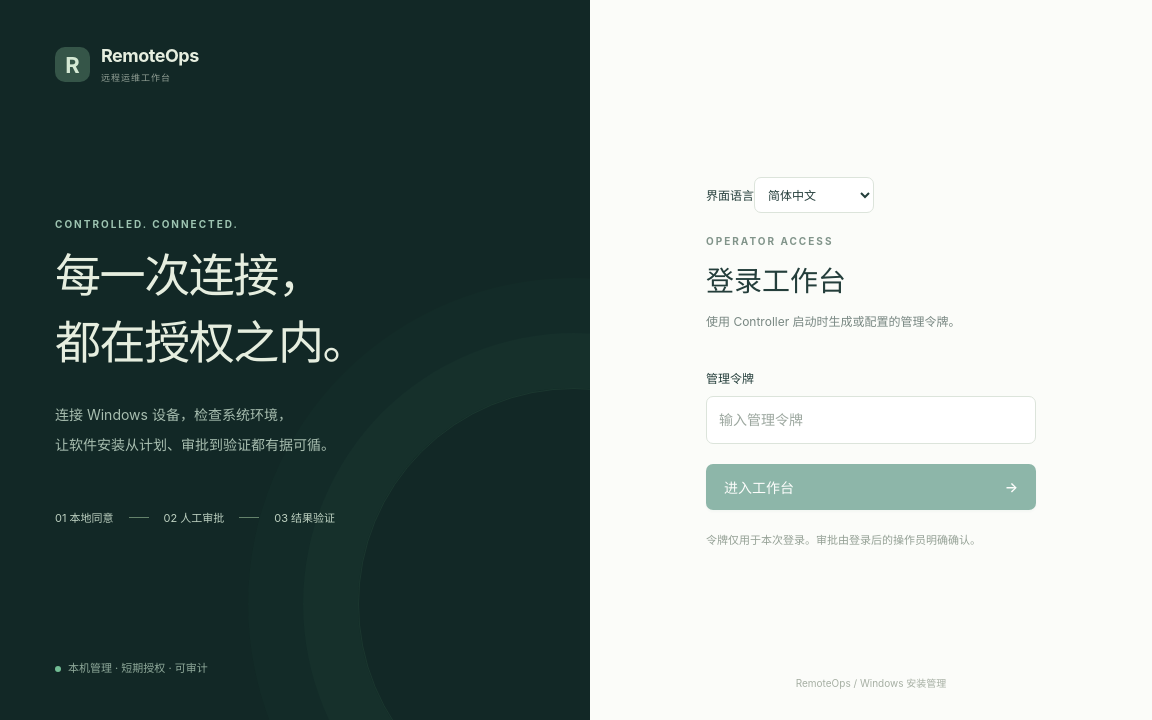
Test case: management UI › clears an unsubmitted token and shows a recoverable warning on failed preference saves
The image size is (1152, 720).
Type "private-secret" into the password field labelled "管理令牌" at (871, 420), box [706,396,1036,444]
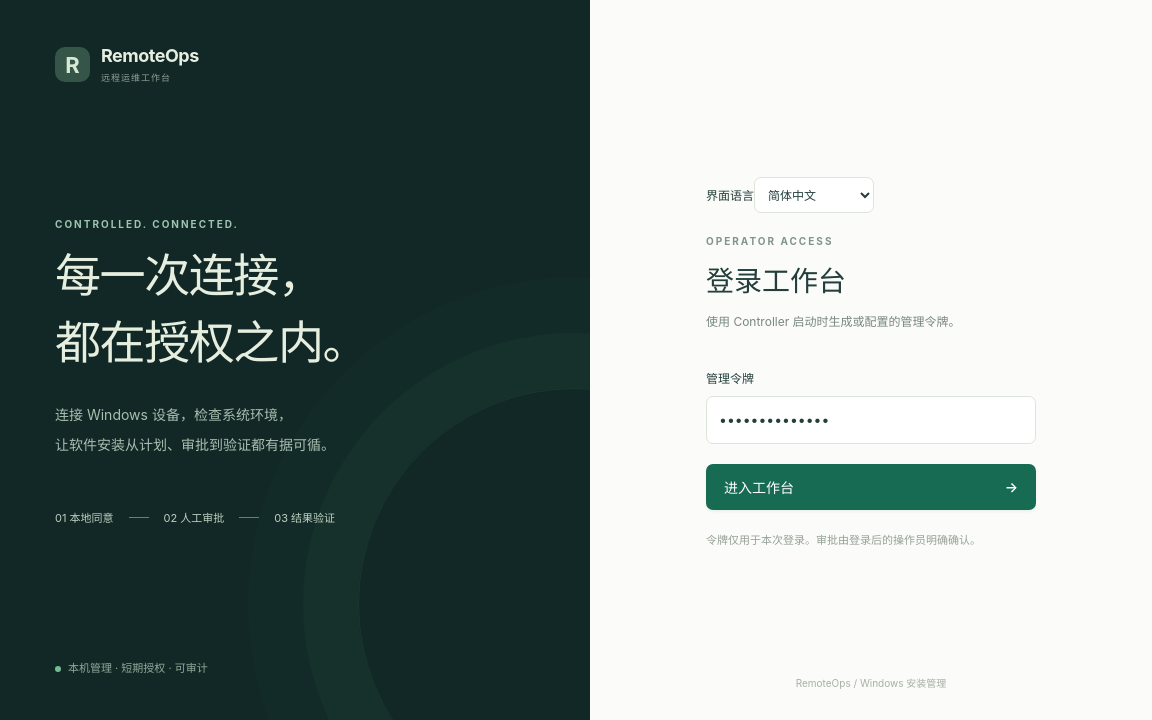
Select "English" in the dropdown labelled "界面语言" at (814, 195), box [754,177,874,213]
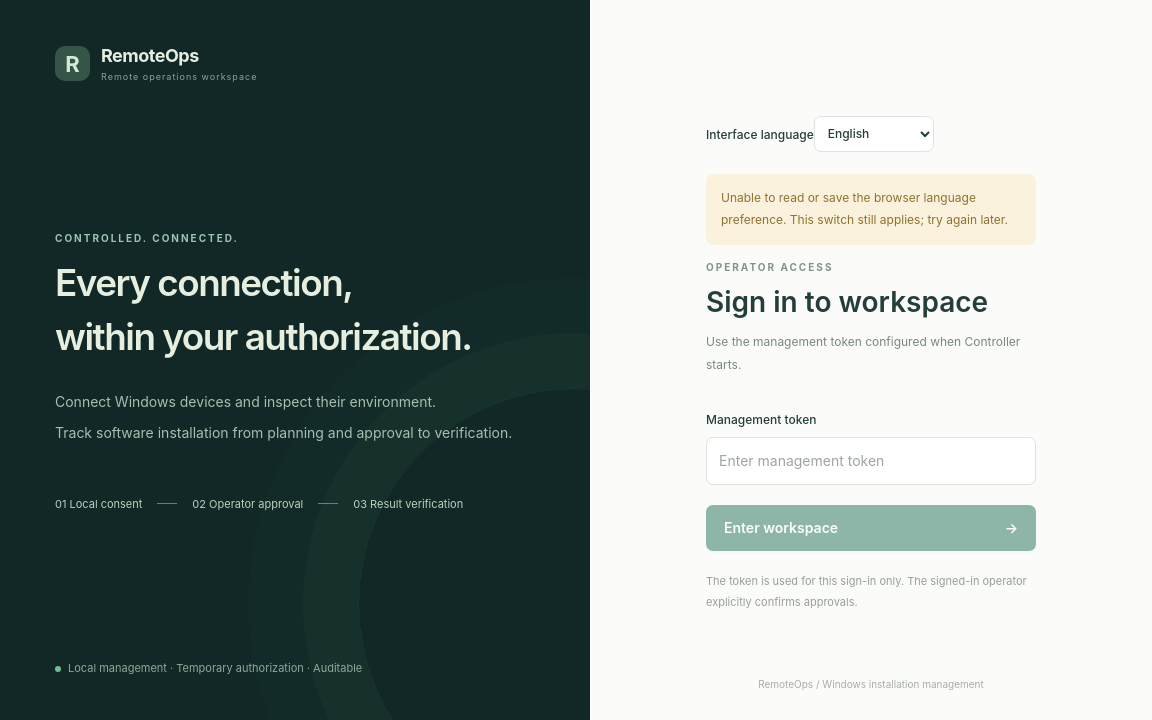
Expected: the password field labelled "Management token" is empty, [706,437,1036,485]
Expected: the message shows "This switch still applies", [721,190,1008,227]
Expected: the text "Sign in to workspace" is shown, [706,285,1036,319]
